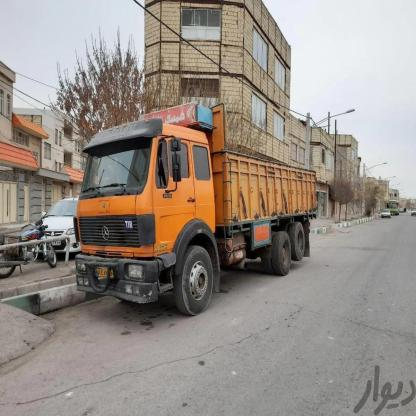Bus: (386, 199, 399, 214)
Car: (44, 187, 86, 258), (381, 210, 394, 222), (410, 210, 416, 221)
Truck: (81, 119, 312, 291)
